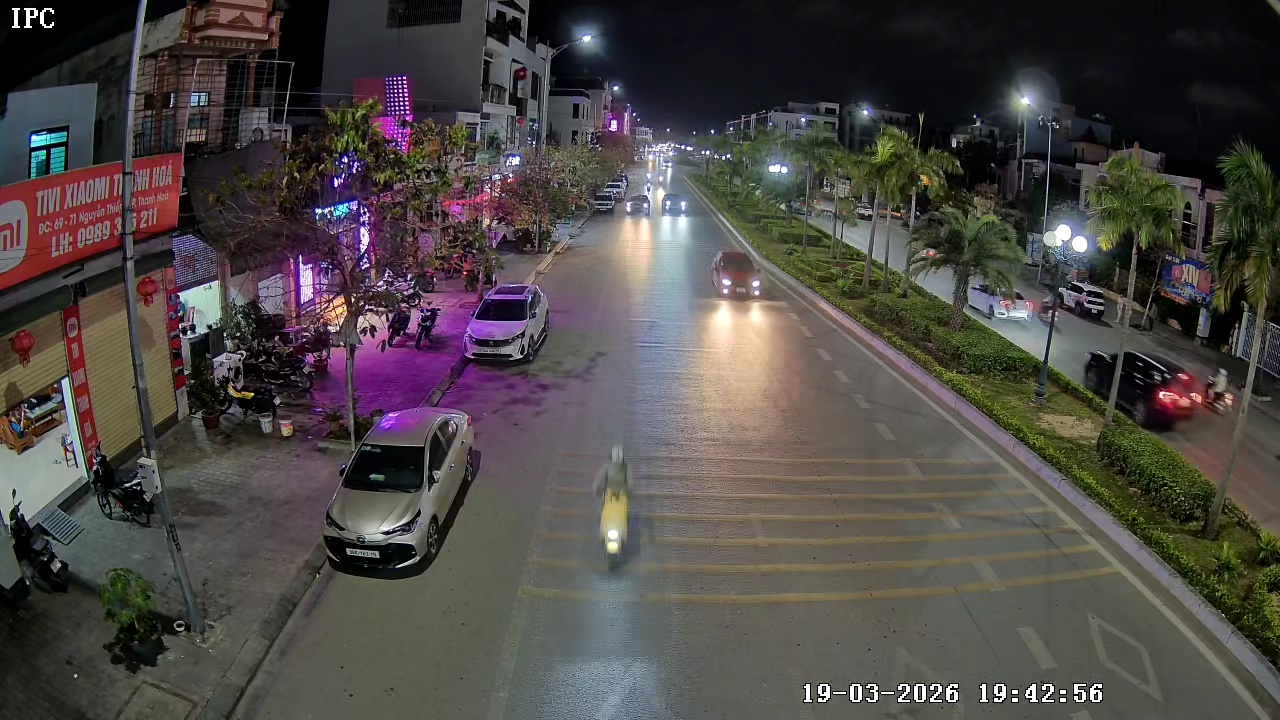car: (323, 405, 482, 576), (463, 281, 552, 364), (709, 247, 762, 303), (590, 184, 618, 216), (662, 190, 690, 216), (633, 188, 651, 216)
motorbike: (591, 444, 644, 573)
